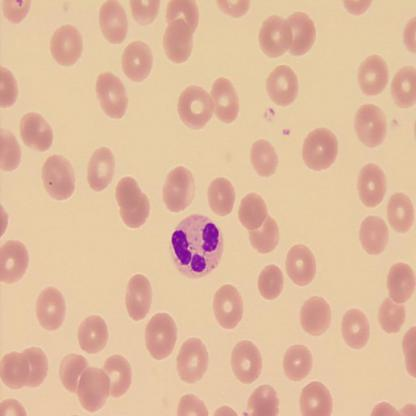Lymphocyte: (168, 214, 224, 279)
